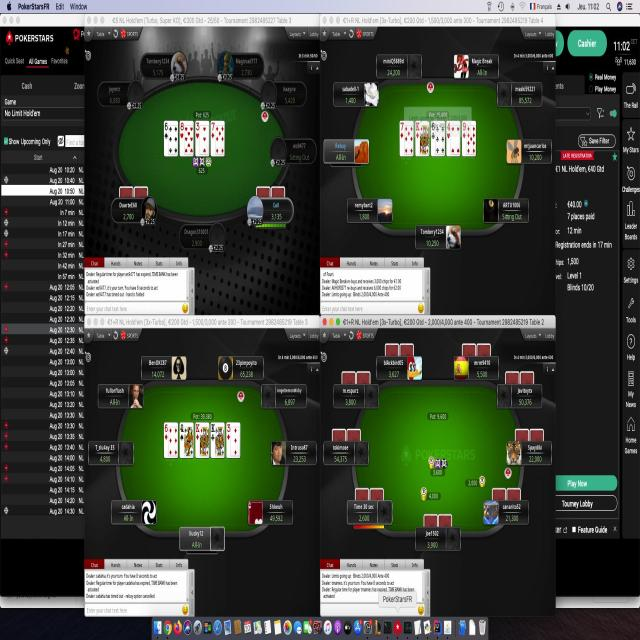3D: (226, 422, 233, 442)
3H: (194, 123, 200, 139)
4H: (446, 120, 452, 140)
6C: (430, 120, 437, 140)
6D: (163, 419, 169, 441)
6S: (163, 120, 169, 139)
7D: (210, 119, 216, 139), (399, 120, 405, 140)
8H: (178, 121, 184, 139)
9D: (461, 118, 467, 138)
KC: (210, 421, 217, 441)
KD: (194, 421, 201, 441), (414, 119, 420, 139)
QS: (180, 421, 186, 441)
